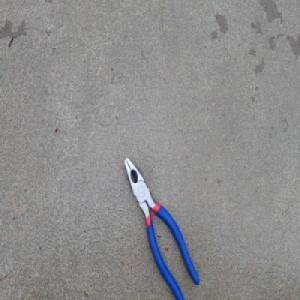Pliers: (122, 154, 200, 300)
